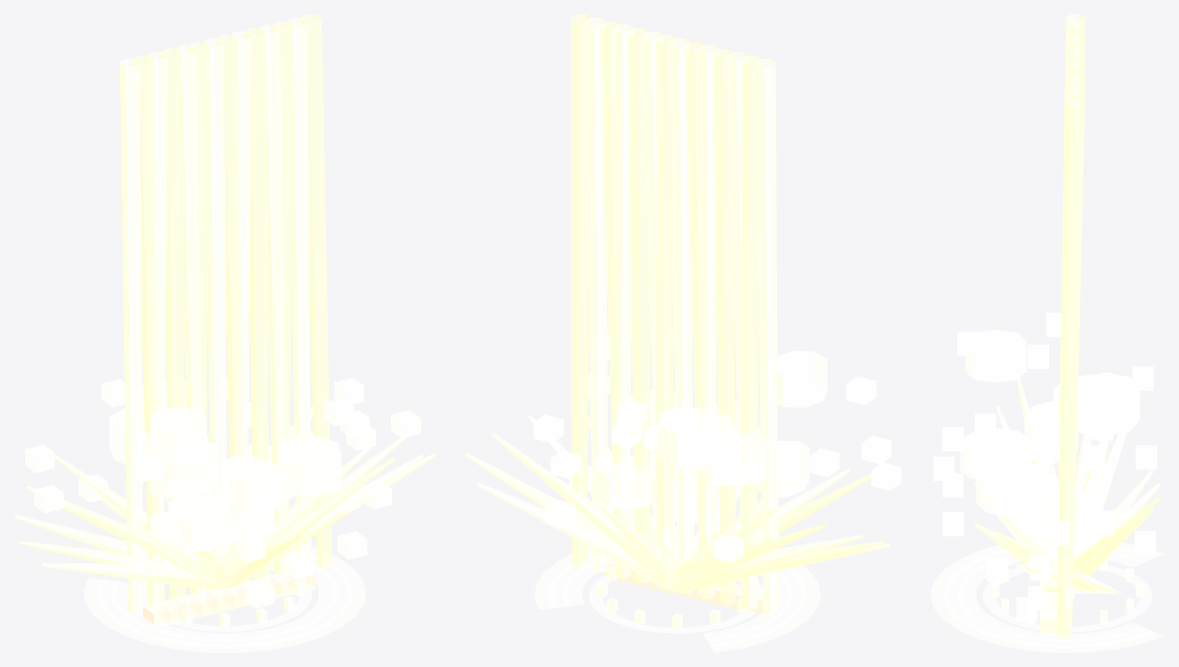
The model's file is efectos4.glb.
3 views of the same model, side by side, from view 1: azimuth 30°, elevation 25°; view 2: azimuth 150°, elevation 25°; view 3: azimuth 270°, elevation 25° (orthographic). The views are drawn at different scales.
Visible parts, largest first — view 1: cascada_aceite_hierro, explosion_muro_roca, explosion_muro_hierro, explosion_muro_sillares, corte_fuego_hierro, corte_dorado_hierro, corte_blanco_hierro, onda_cargada_hierro; view 2: cascada_aceite_hierro, explosion_muro_hierro, explosion_muro_roca, explosion_muro_sillares, corte_fuego_hierro, corte_dorado_hierro, onda_cargada_hierro, corte_blanco_hierro; view 3: explosion_muro_roca, cascada_aceite_hierro, explosion_muro_sillares, explosion_muro_hierro, corte_fuego_hierro, corte_dorado_hierro, corte_blanco_hierro, onda_cargada_hierro.
Part boxes in pixels (box(x1,y1,x2,y2)): cascada_aceite_hierro: box(119, 14, 332, 627); explosion_muro_roca: box(109, 380, 341, 551); explosion_muro_hierro: box(14, 405, 435, 590); explosion_muro_sillares: box(25, 377, 420, 608); corte_fuego_hierro: box(83, 546, 366, 652); corte_dorado_hierro: box(96, 548, 352, 647); corte_blanco_hierro: box(111, 564, 338, 641); onda_cargada_hierro: box(143, 564, 312, 631); cascada_aceite_hierro: box(571, 14, 778, 616); explosion_muro_hierro: box(464, 415, 890, 592); explosion_muro_roca: box(594, 351, 827, 523); explosion_muro_sillares: box(533, 324, 901, 562); corte_fuego_hierro: box(534, 534, 820, 652); corte_dorado_hierro: box(548, 553, 807, 646); onda_cargada_hierro: box(589, 566, 762, 633); corte_blanco_hierro: box(563, 557, 791, 641); explosion_muro_roca: box(960, 329, 1139, 546); cascada_aceite_hierro: box(1040, 14, 1085, 639); explosion_muro_sillares: box(933, 312, 1156, 621); explosion_muro_hierro: box(974, 377, 1160, 609); corte_fuego_hierro: box(930, 542, 1164, 652); corte_dorado_hierro: box(943, 547, 1155, 647); corte_blanco_hierro: box(957, 553, 1144, 641); onda_cargada_hierro: box(983, 559, 1151, 632).
Bounding box in the file's own units: 5.41 × 6.99 × 2.77.
